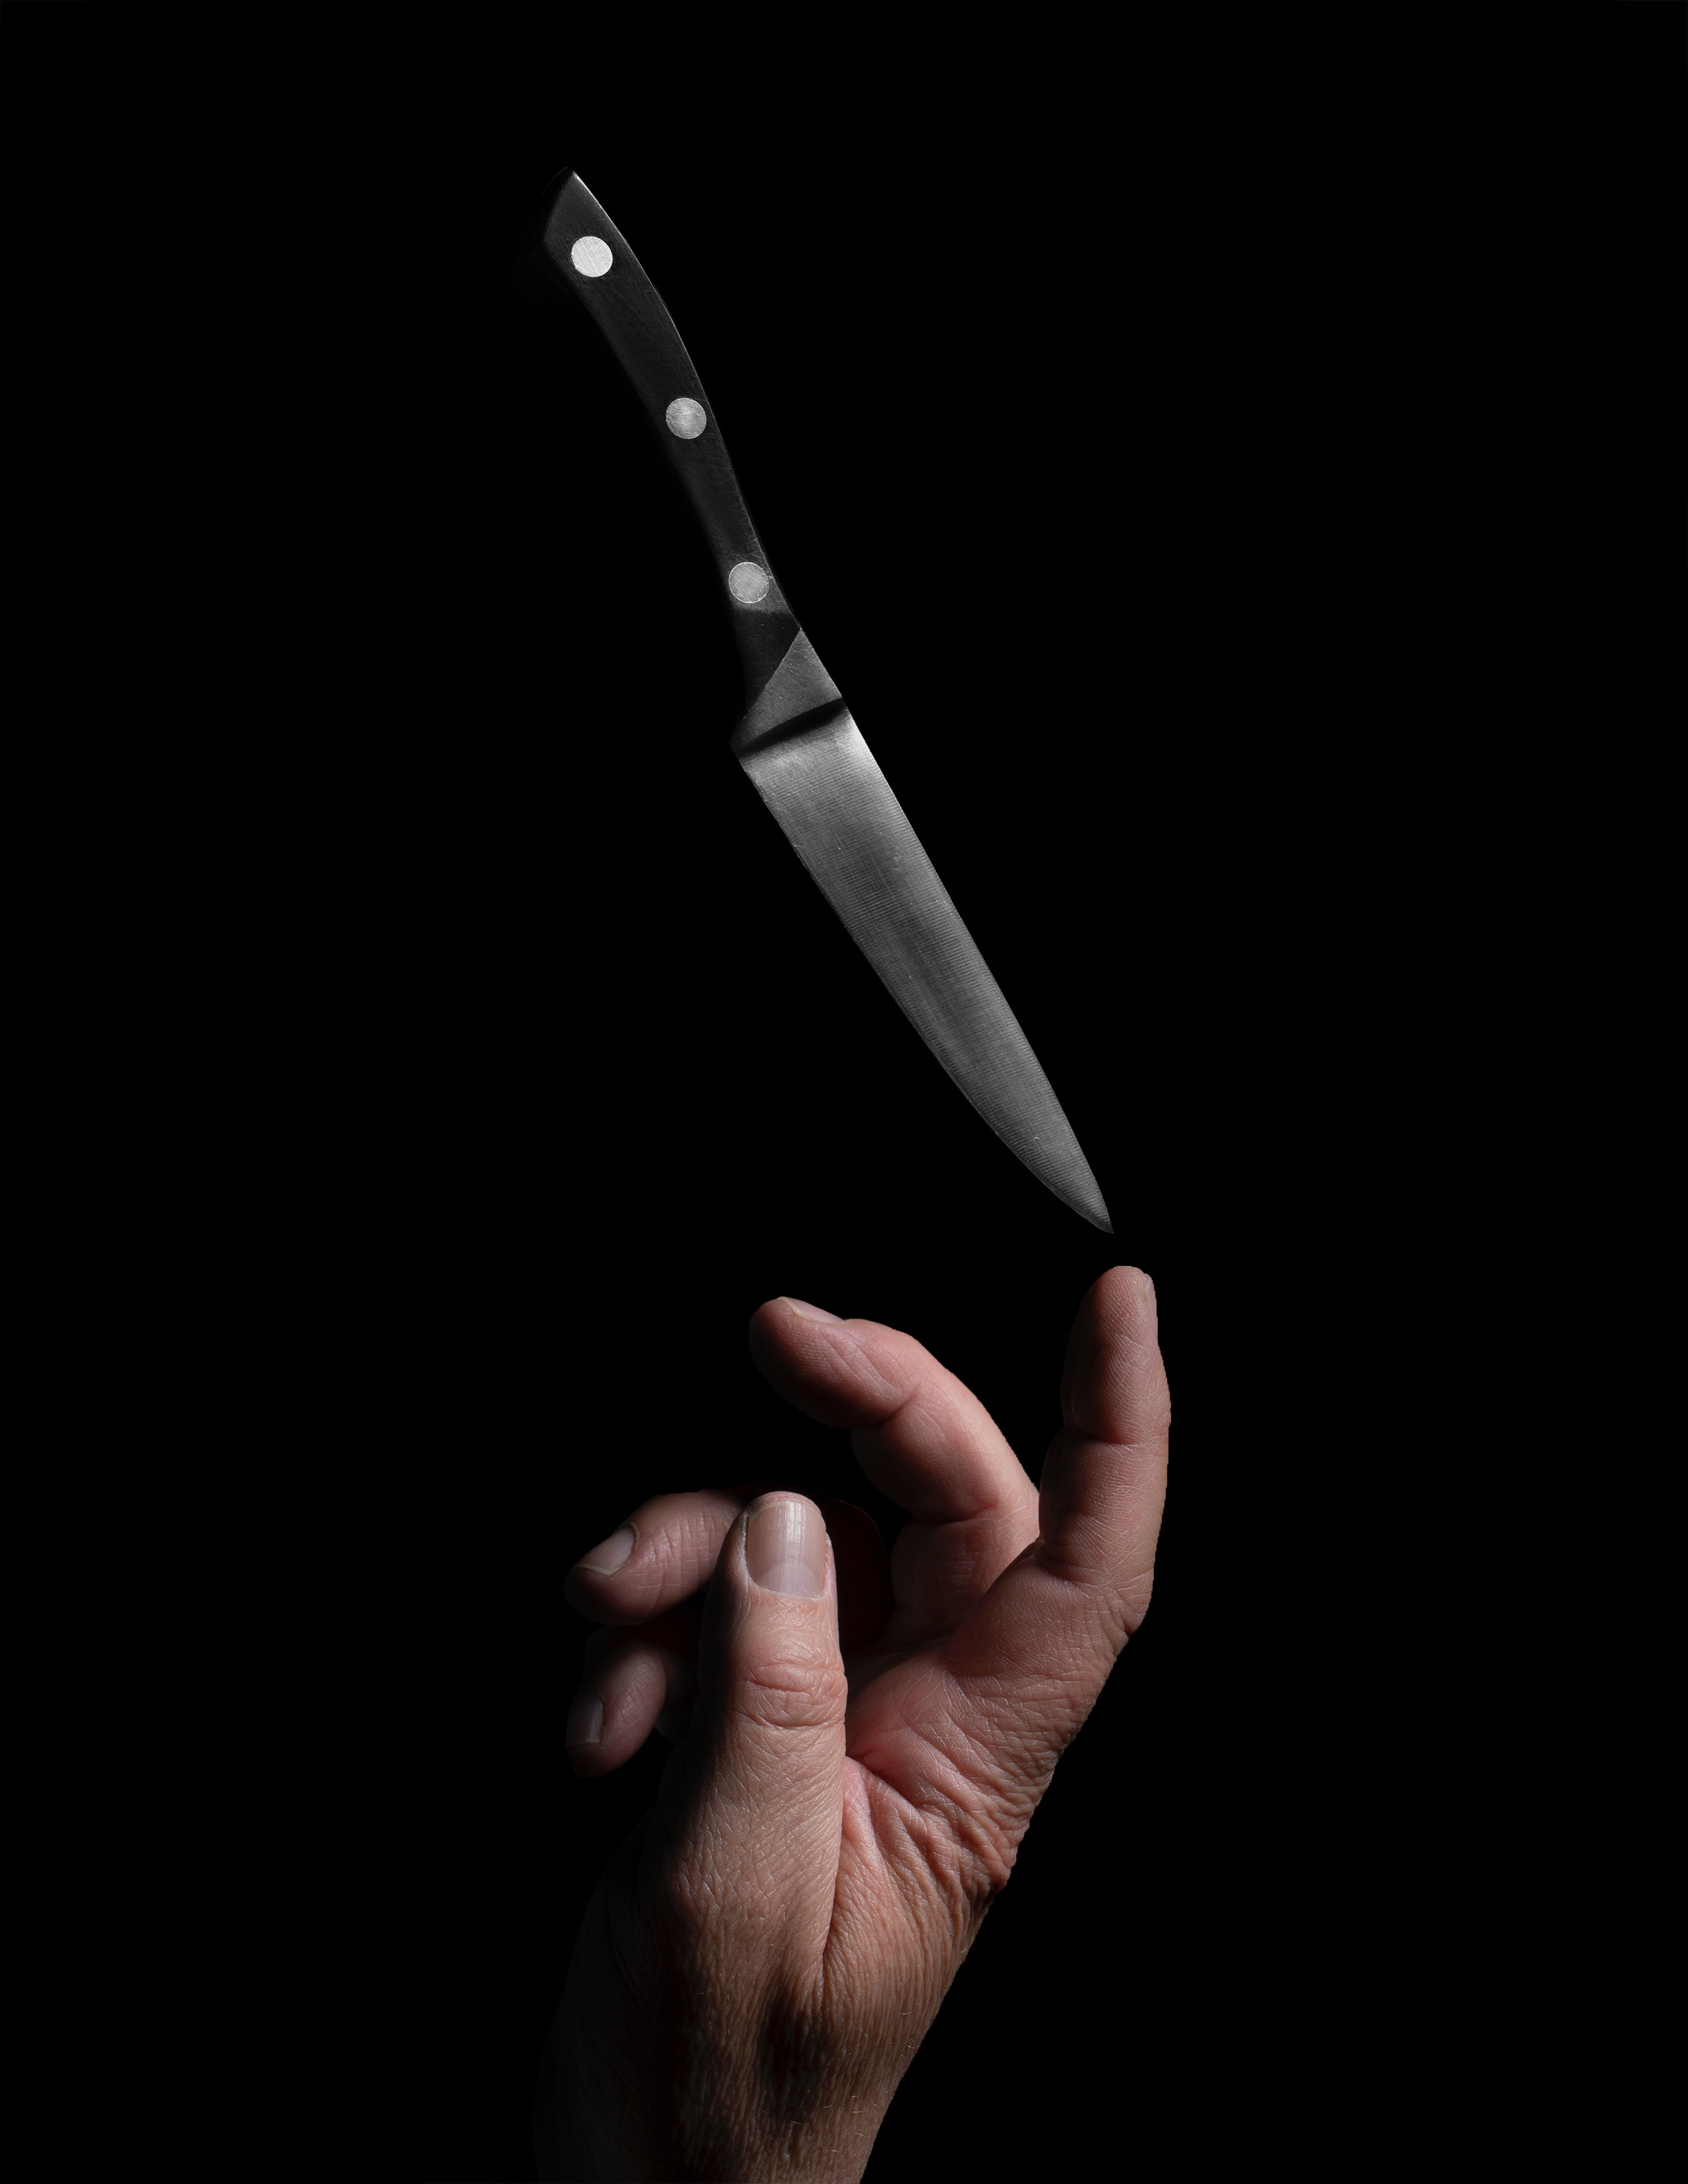knife: (502, 147, 1124, 1246)
